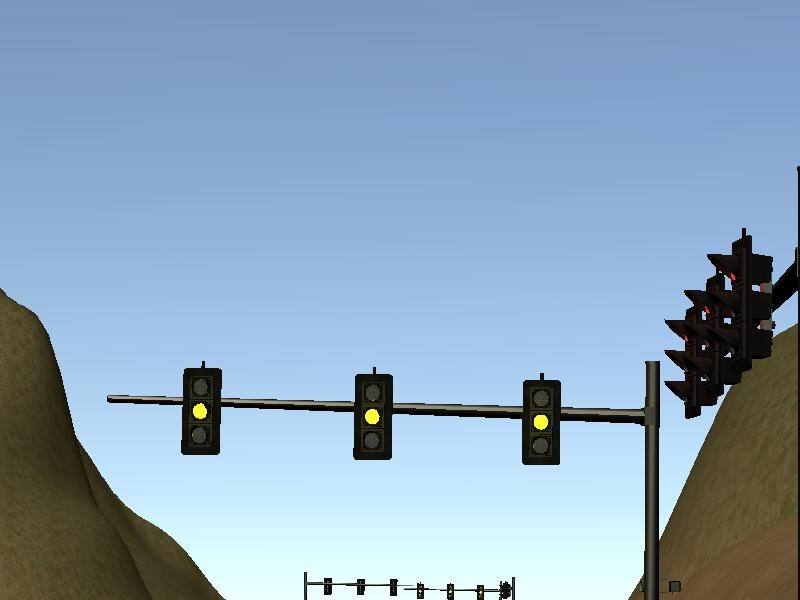YELLOW: (181, 367, 222, 455), (354, 372, 395, 460), (521, 377, 562, 465)
